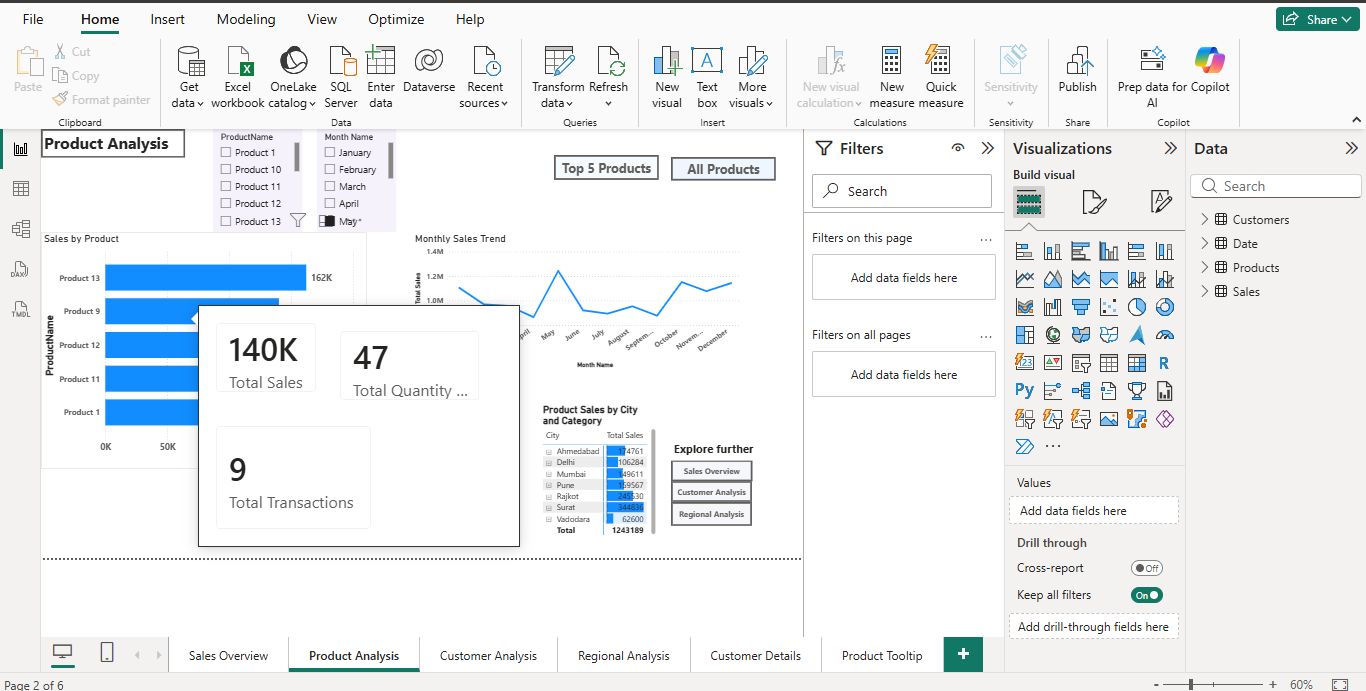

This screenshot's page, from the dashboard's own definition file:
{"tool":"powerbi","page":{"name":"Product Analysis","canvas":[1280,720],"ordinal":1},"visuals":[{"type":"clusteredBarChart","title":"Sales by Product","fields":{"Category":["Products.ProductName"],"Y":["Sales.Total Sales"]},"box":[0,173,547.6,398.1],"z":0},{"type":"actionButton","box":[1058.3,591.3,136.1,35.3],"z":1000},{"type":"actionButton","box":[1058.3,626.6,136.1,40.3],"z":2000},{"type":"actionButton","box":[1057.5,556.1,136.9,35.9],"z":3000},{"type":"lineChart","title":"Monthly Sales Trend","fields":{"Y":["Sales.Total Sales"],"Category":["Date.Month Name"]},"box":[622.9,172.8,557.7,233.5],"z":4000},{"type":"slicer","fields":{"Values":["Date.Month Name"]},"box":[463.6,0,132.7,173],"z":5000},{"type":"slicer","fields":{"Values":["Products.ProductName"]},"box":[288.9,0,149.5,173],"z":6000},{"type":"actionButton","box":[861.4,44.1,176.2,41.9],"z":7000},{"type":"pivotTable","title":"Product Sales by City and Category","fields":{"Values":["Sales.Total Sales"],"Rows":["Customers.City","Products.Category","Products.ProductName"]},"box":[596.3,419.9,243.6,300.7],"z":8000},{"type":"textbox","box":[1057.5,518.5,176.3,37.6],"z":9000},{"type":"textbox","box":[0,0,225.1,48.7],"z":10000},{"type":"actionButton","box":[0,0,242.3,48.5],"z":11000},{"type":"actionButton","box":[1057.5,46.3,176.2,39.7],"z":12000}]}

Visuals, with their boxes on the page's 1280x720 design canvas (x1, y1, x2, y2). These are canvas units, not pixel positions in the 1366x691 screenshot, which may show the page scaled, cropped or inside an application window:
"Sales by Product" clusteredBarChart: 0,173,548,571
actionButton: 1058,591,1194,627
actionButton: 1058,627,1194,667
actionButton: 1058,556,1194,592
"Monthly Sales Trend" lineChart: 623,173,1181,406
slicer - Date.Month Name: 464,0,596,173
slicer - Products.ProductName: 289,0,438,173
actionButton: 861,44,1038,86
"Product Sales by City and Category" pivotTable: 596,420,840,721
textbox: 1058,518,1234,556
textbox: 0,0,225,49
actionButton: 0,0,242,48
actionButton: 1058,46,1234,86
